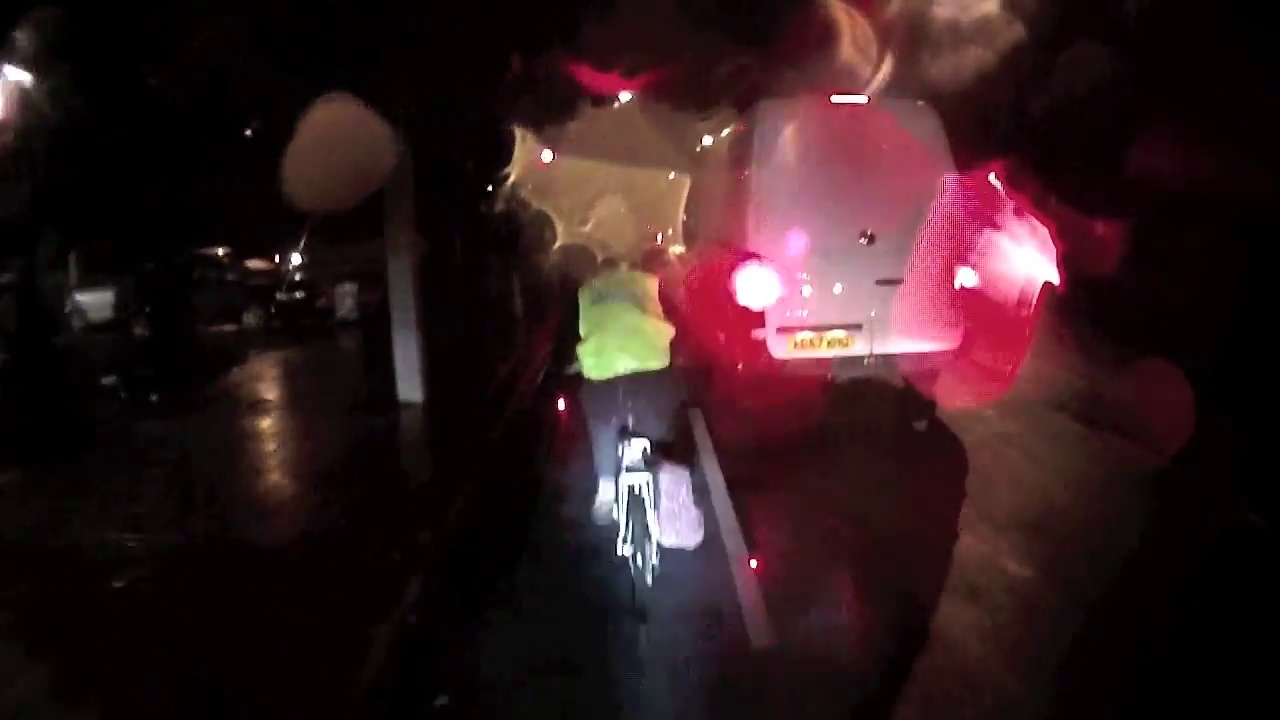cyclist_back: (539, 191, 723, 619)
